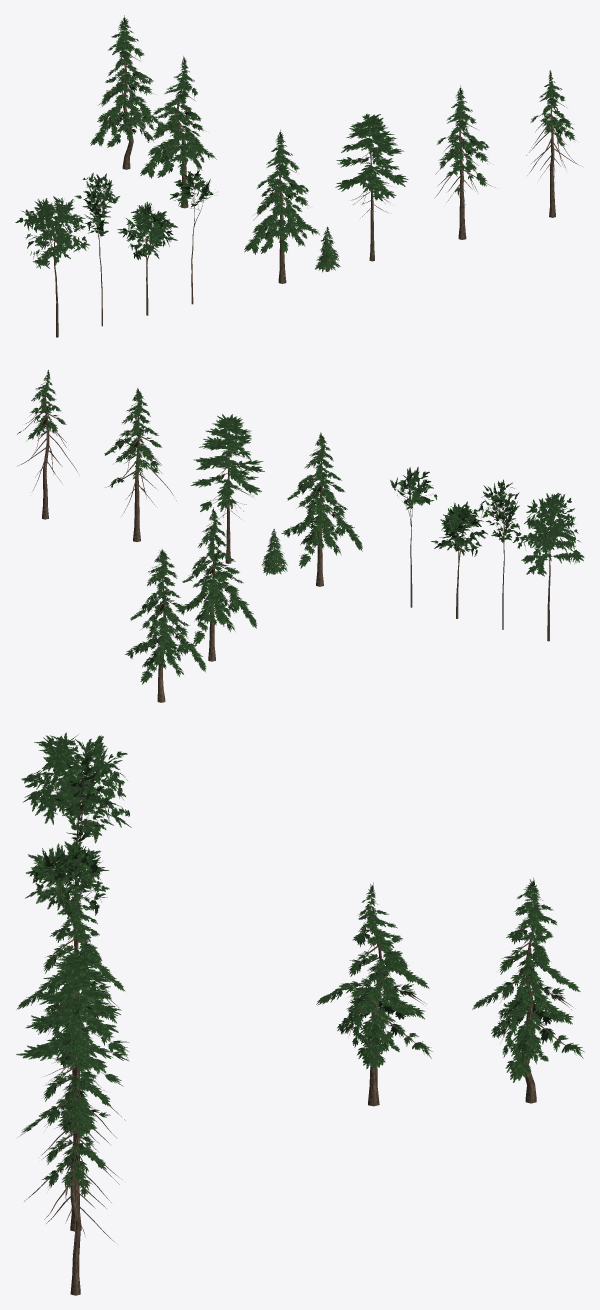
File: treesAndFoliage.glb
3 renders of one model, top to bottom at view 1: azimuth 30°, elevation 25°; view 2: azimuth 150°, elevation 25°; view 3: azimuth 270°, elevation 25°, orthographic. The views are drawn at different scales.
Visible parts, largest first — view 1: largeFir.004, largeFir, largeFir.003, leaves.003, leaves.007, largeFir.001, leaves.006, largeFir.002, leaves.004, leaves.005, smallPine, tree.007 (+2 smaller); view 2: largeFir.004, largeFir, largeFir.003, leaves.003, leaves.007, largeFir.001, leaves.006, largeFir.002, leaves.004, leaves.005, smallPine, tree.007 (+2 smaller); view 3: largeFir.004, largeFir.003, leaves.003, leaves.007, largeFir, largeFir.001, largeFir.002, leaves.006, leaves.004, leaves.005, largeFirbase-col.002.
Boxes of the visible parts, x1=… form: largeFir.004: x1=90, y1=15, x2=164, y2=147; largeFir: x1=244, y1=129, x2=319, y2=254; largeFir.003: x1=140, y1=56, x2=216, y2=178; leaves.003: x1=335, y1=113, x2=408, y2=201; leaves.007: x1=15, y1=196, x2=90, y2=268; largeFir.001: x1=434, y1=85, x2=495, y2=204; leaves.006: x1=117, y1=201, x2=177, y2=260; largeFir.002: x1=526, y1=70, x2=582, y2=178; leaves.004: x1=74, y1=173, x2=120, y2=236; leaves.005: x1=170, y1=169, x2=213, y2=206; smallPine: x1=315, y1=226, x2=340, y2=272; tree.007: x1=350, y1=120, x2=391, y2=261; largeFir.004: x1=125, y1=549, x2=206, y2=684; largeFir: x1=281, y1=432, x2=362, y2=568; largeFir.003: x1=176, y1=507, x2=257, y2=644; leaves.003: x1=190, y1=414, x2=264, y2=511; leaves.007: x1=512, y1=493, x2=584, y2=576; largeFir.001: x1=104, y1=388, x2=176, y2=516; leaves.006: x1=431, y1=501, x2=487, y2=556; largeFir.002: x1=17, y1=370, x2=77, y2=495; leaves.004: x1=478, y1=479, x2=520, y2=542; leaves.005: x1=390, y1=467, x2=437, y2=509; smallPine: x1=261, y1=529, x2=287, y2=575; tree.007: x1=207, y1=423, x2=253, y2=563; largeFir.004: x1=472, y1=877, x2=584, y2=1082; largeFir.003: x1=316, y1=882, x2=432, y2=1071; leaves.003: x1=16, y1=950, x2=129, y2=1086; leaves.007: x1=21, y1=732, x2=131, y2=843; largeFir: x1=16, y1=878, x2=129, y2=1069; largeFir.001: x1=17, y1=1006, x2=125, y2=1184; largeFir.002: x1=24, y1=1076, x2=119, y2=1253; leaves.006: x1=25, y1=841, x2=109, y2=918; leaves.004: x1=54, y1=748, x2=116, y2=842; leaves.005: x1=42, y1=837, x2=97, y2=895; largeFirbase-col.002: x1=70, y1=1087, x2=80, y2=1295.
Bounding box in the file's own units: 124 × 32.54 × 75.4.
Materials: 2 (2 with a texture image).
